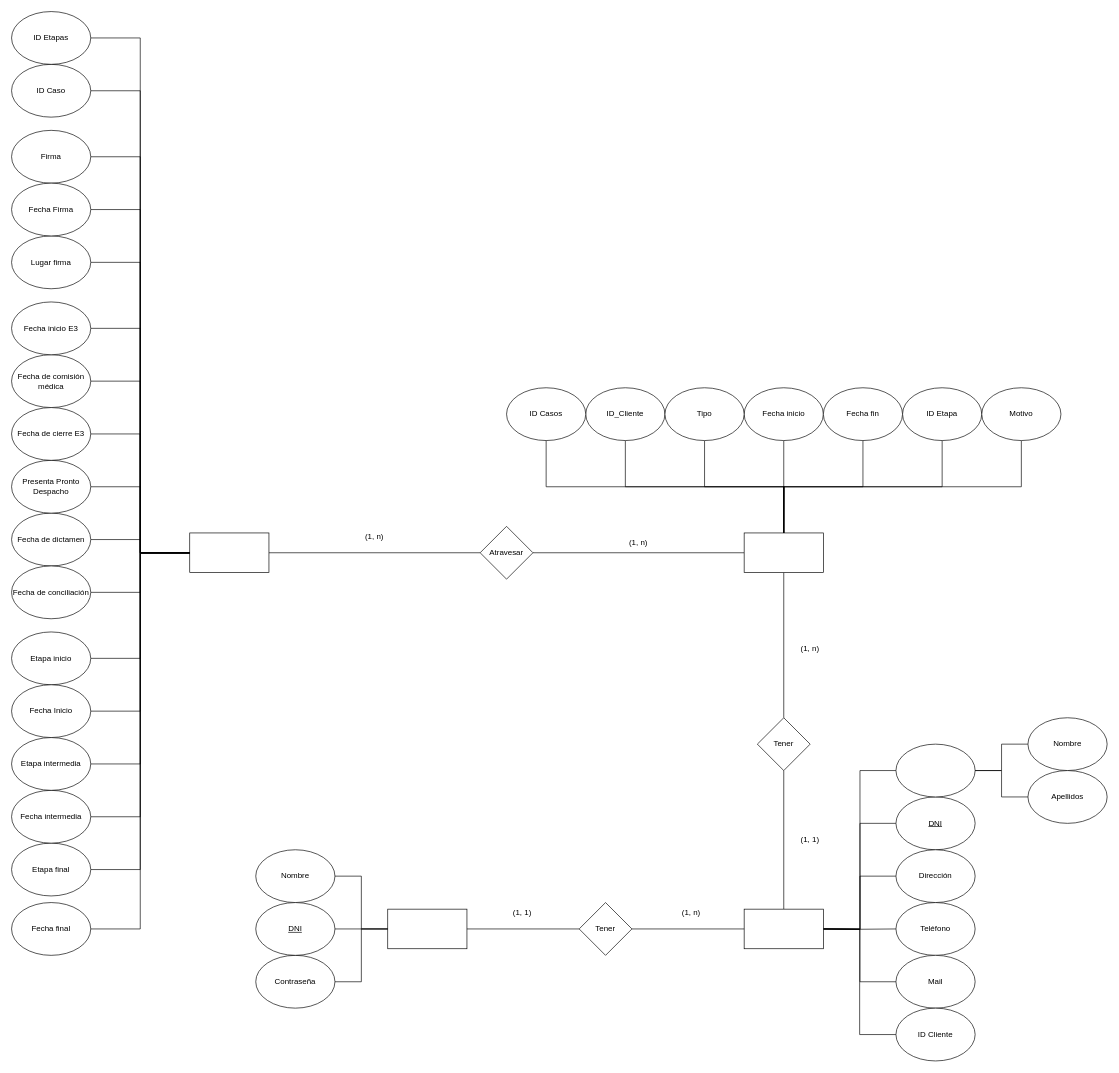
The diagram is 1119 pixels wide and 1073 high, and some of its shapes have lost their labels. The centre of each missing label's shape, as x and y in pixels:
Casos: point 783,552
Cliente: point 783,928
Etapas: point 229,552
Nombre completo: point 935,770
Usuario: point 427,928
